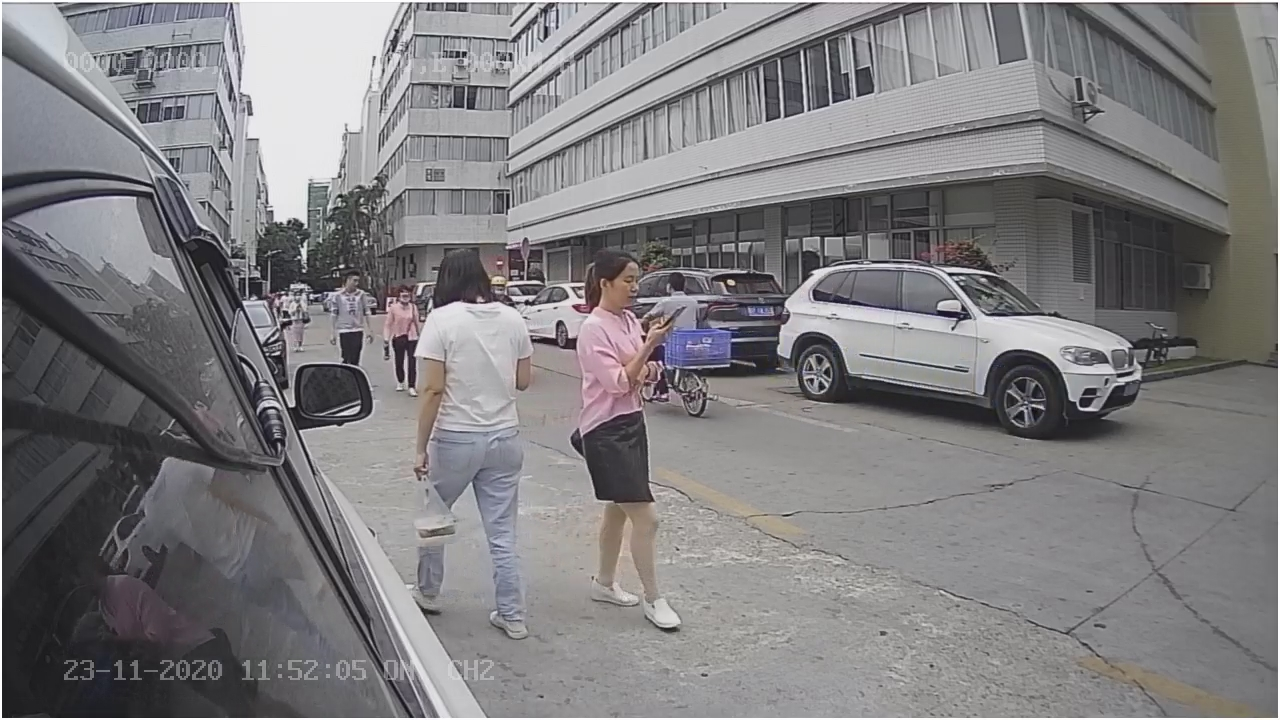person: (408, 246, 542, 635), (573, 246, 683, 628)
